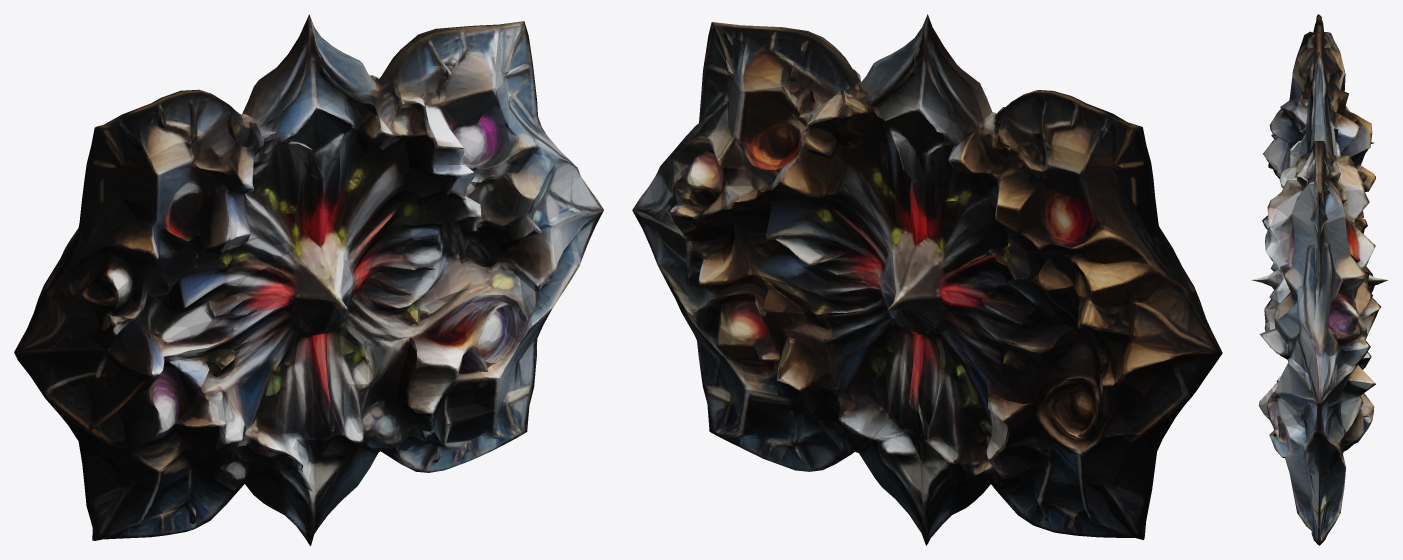
Rendered from ceramic-wall-art-futuristic.jpeg.glb.
3 views of the same model, side by side, from view 1: azimuth 30°, elevation 25°; view 2: azimuth 150°, elevation 25°; view 3: azimuth 270°, elevation 25° (orthographic). The views are drawn at different scales.
Parts seen in each view (by area): view 1: world; view 2: world; view 3: world.
Boxes of the visible parts, <box> form: world: <box>14,14,603,545</box>; world: <box>632,14,1222,545</box>; world: <box>1251,14,1388,545</box>.
Bounding box in the file's own units: 1 × 0.866 × 0.2362.
1 material, 1 textured.
